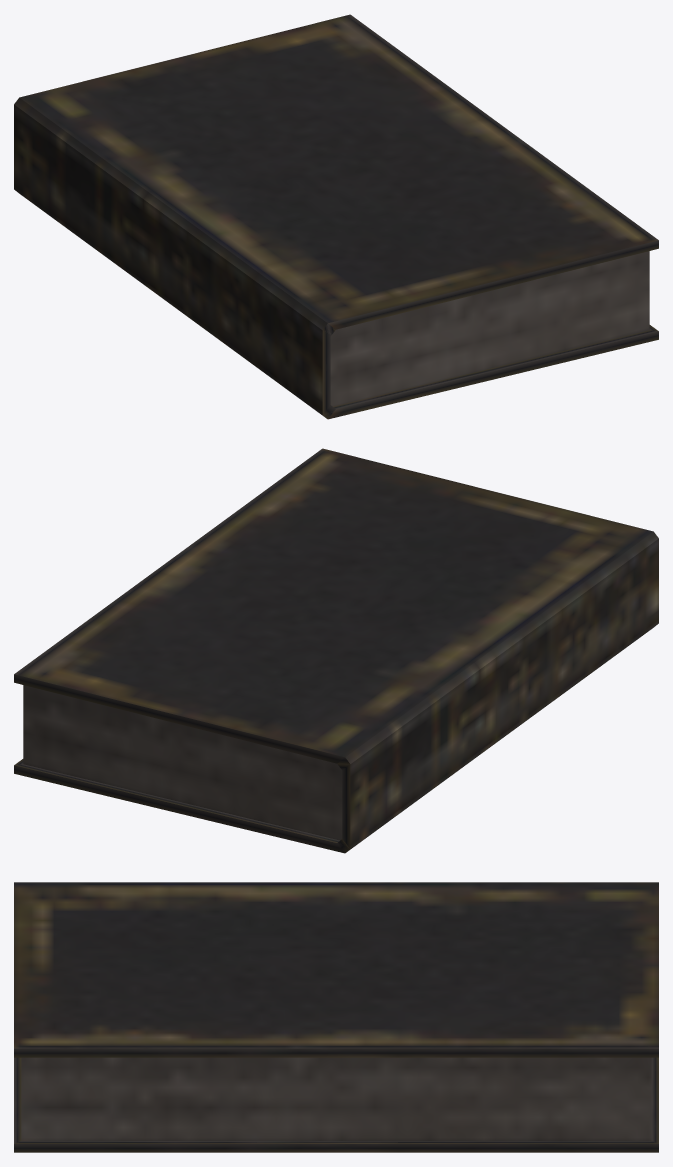
File: book_2.obj
The picture shows the model from 3 angles, top to bottom: view 1: azimuth 30°, elevation 25°; view 2: azimuth 150°, elevation 25°; view 3: azimuth 270°, elevation 25°; orthographic projection. The views are drawn at different scales.
Parts seen in each view (by area): view 1: book_2; view 2: book_2; view 3: book_2.
Boxes of the visible parts, bbox=[...] form: book_2: bbox=[14, 14, 658, 419]; book_2: bbox=[14, 448, 658, 853]; book_2: bbox=[14, 882, 658, 1152].
Size of the model in its own units: 0.17 by 0.048 by 0.27.
